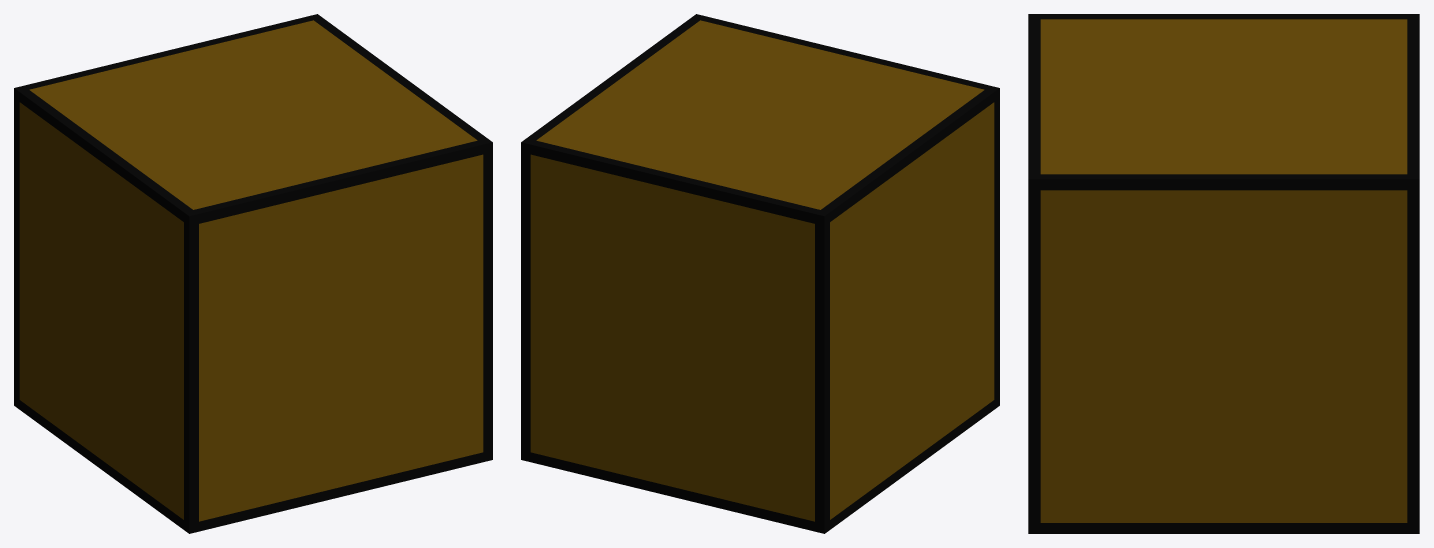
File: placeholder_tile.glb
3 renders of one model, left to right at view 1: azimuth 30°, elevation 25°; view 2: azimuth 150°, elevation 25°; view 3: azimuth 270°, elevation 25°, orthographic. The views are drawn at different scales.
Parts seen in each view (by area): view 1: MapTilePlaceholder; view 2: MapTilePlaceholder; view 3: MapTilePlaceholder.
Part boxes in pixels (x1,y1,x2,y2): MapTilePlaceholder: (14,14,492,533); MapTilePlaceholder: (521,14,999,533); MapTilePlaceholder: (1028,14,1419,533).
Size of the model in its own units: 0.98 by 0.98 by 0.98.
